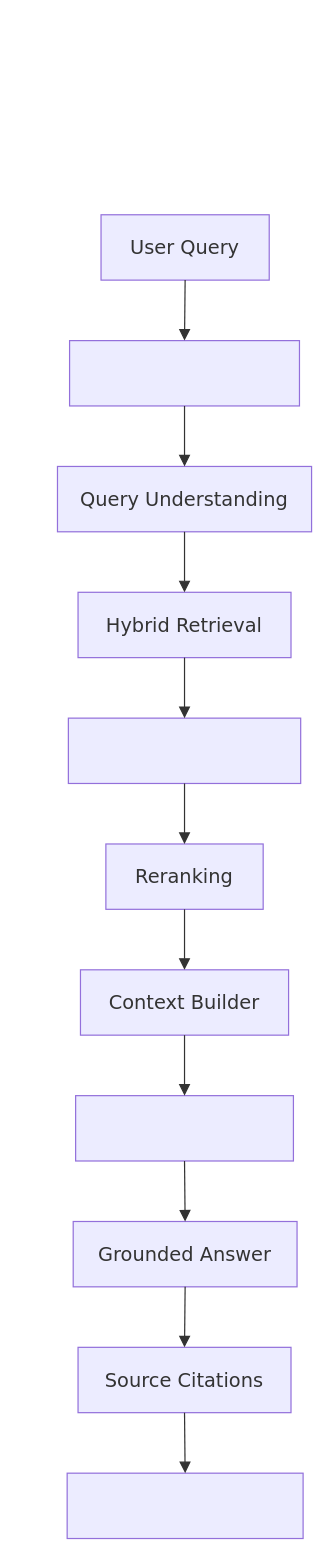
This 333x1560 diagram has some shape labels left out. The centre of each missing label's shape, as x and y in pixels:
Authenticate User: the point at 183,372
Frontend Response: the point at 184,1505
Gemini 2.5 Flash: the point at 183,1127
Metadata Filtering: the point at 184,750
